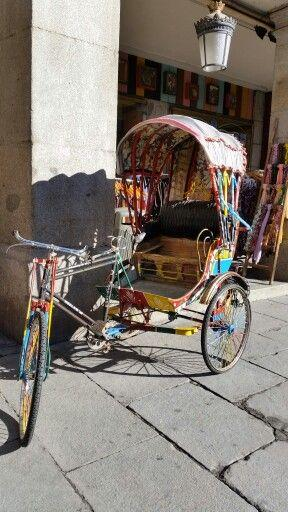Rickshaw: (15, 115, 250, 444)
